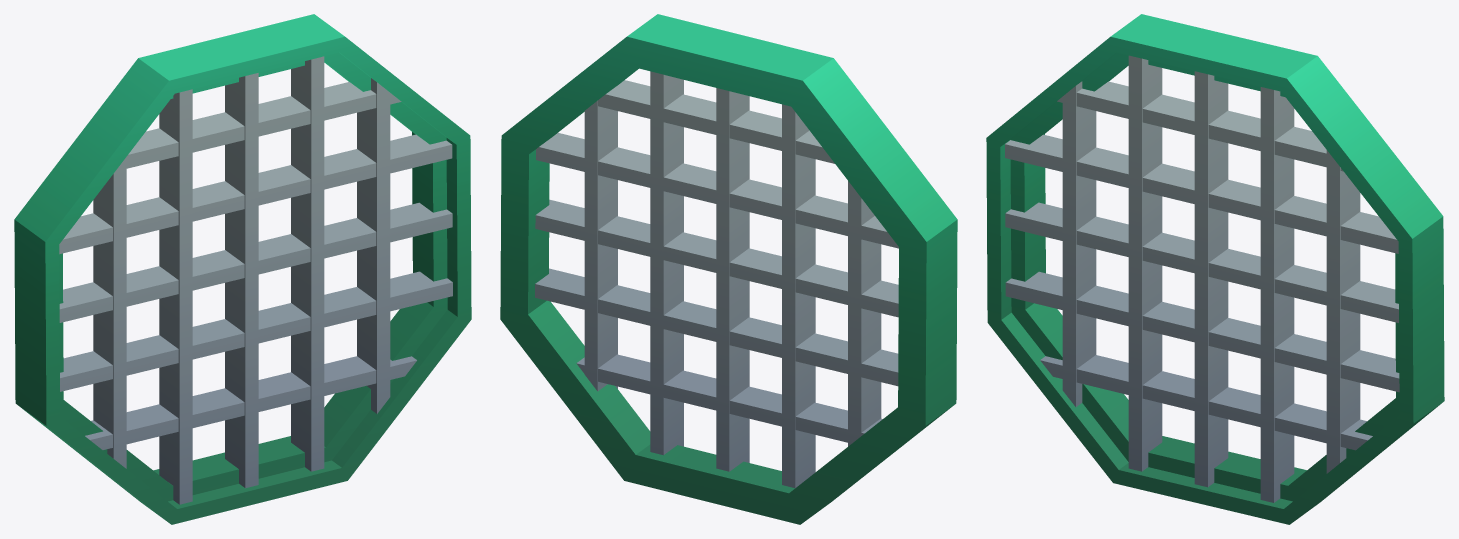
File: PotatoSlicer.fbx
The picture shows the model from 3 angles, left to right: view 1: azimuth 30°, elevation 25°; view 2: azimuth 150°, elevation 25°; view 3: azimuth 330°, elevation 25°; orthographic projection.
Parts seen in each view (by area): view 1: Circle, Plane.001, Plane; view 2: Circle, Plane.001, Plane; view 3: Circle, Plane.001, Plane.
Part boxes in pixels (x1,y1,x2,y2): Circle: (14, 14, 471, 524); Plane.001: (93, 56, 390, 504); Plane: (59, 82, 452, 449); Circle: (500, 14, 957, 524); Plane.001: (584, 71, 881, 488); Plane: (535, 80, 898, 442); Circle: (986, 14, 1444, 524); Plane.001: (1062, 55, 1360, 502); Plane: (1005, 81, 1399, 450).
Size of the model in its own units: 255 by 255 by 32.04.
